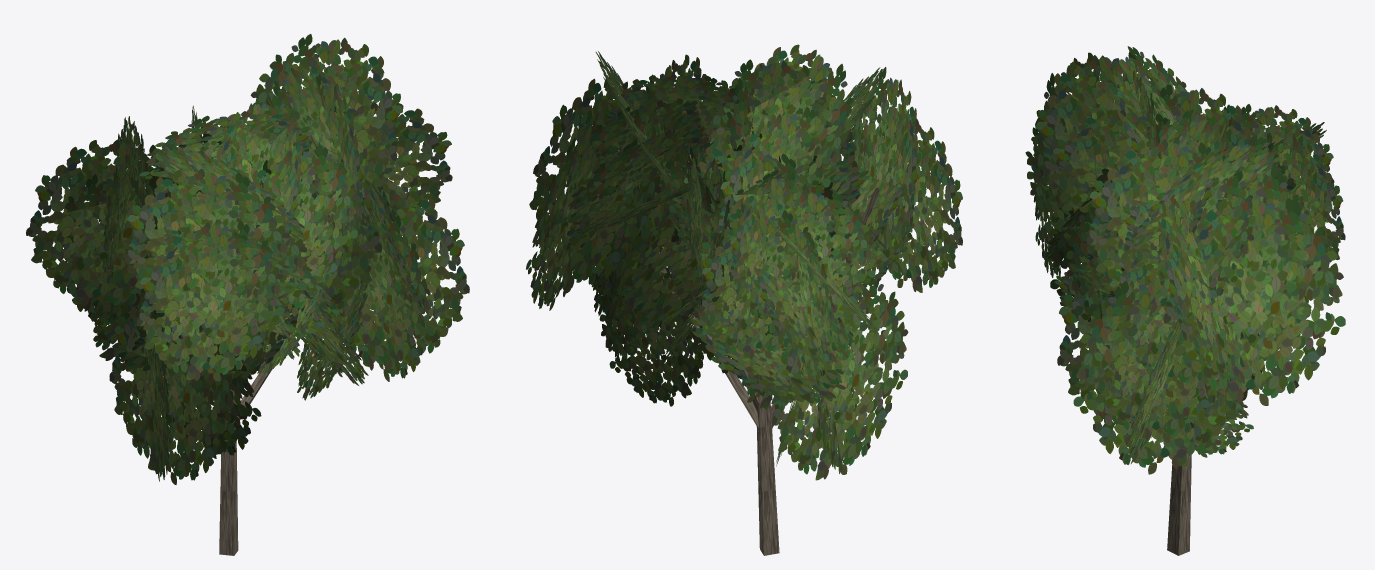
The model's file is CommonTree_2_LOD2.gltf.
3 views of the same model, side by side, from view 1: azimuth 30°, elevation 25°; view 2: azimuth 150°, elevation 25°; view 3: azimuth 270°, elevation 25° (orthographic). The views are drawn at different scales.
Parts seen in each view (by area): view 1: CommonTree_2_LOD2; view 2: CommonTree_2_LOD2; view 3: CommonTree_2_LOD2.
Part boxes in pixels (x1,y1,x2,y2): CommonTree_2_LOD2: [26, 34, 469, 555]; CommonTree_2_LOD2: [526, 44, 962, 555]; CommonTree_2_LOD2: [1025, 46, 1345, 555].
Size of the model in its own units: 16.69 by 18.38 by 12.33.
2 materials, 2 textured.
